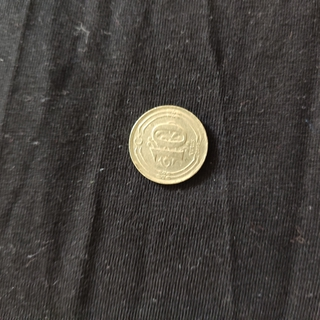10KURUS: (127, 103, 210, 185)
